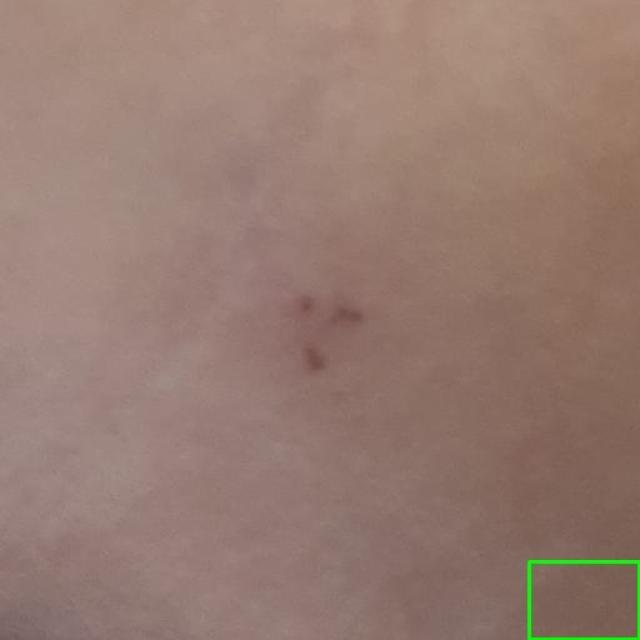Atopic Dermatitis: (529, 561, 639, 639)
